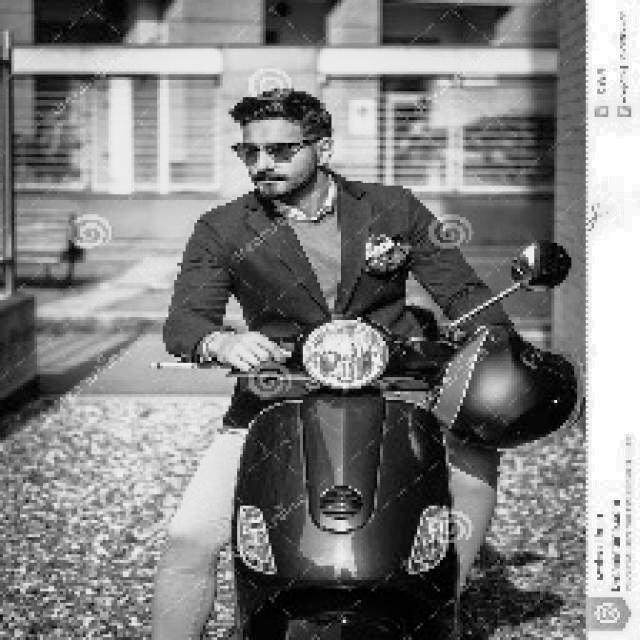Bike: (209, 330, 487, 640)
